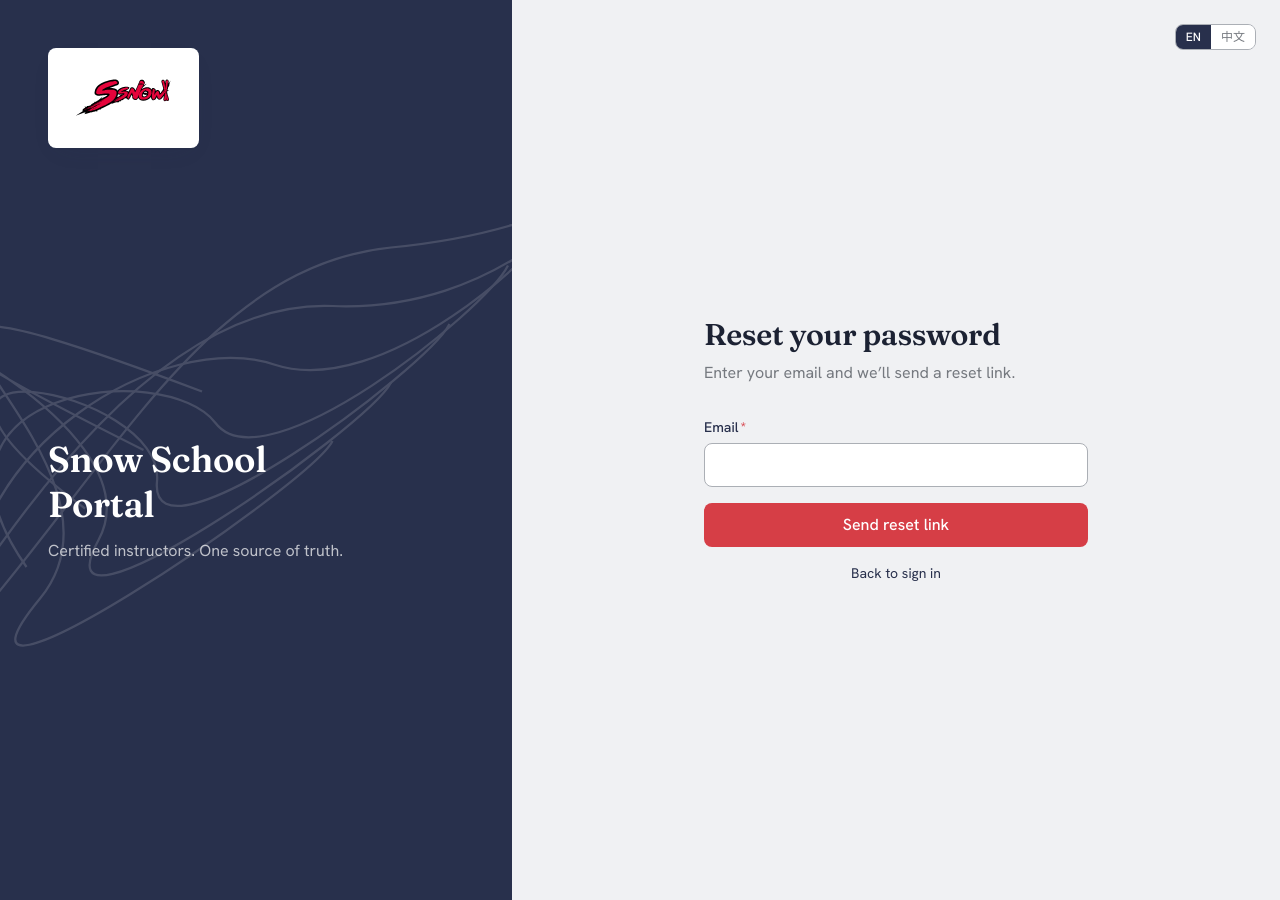
Test: RequestResetPage › asks the user to wait without a countdown when Supabase gives no wait
This screenshot has width=1280, height=900.
Step 1. Type "jane@example.com" into the field labelled "Email*" → point(896, 465), box [704, 443, 1088, 487]
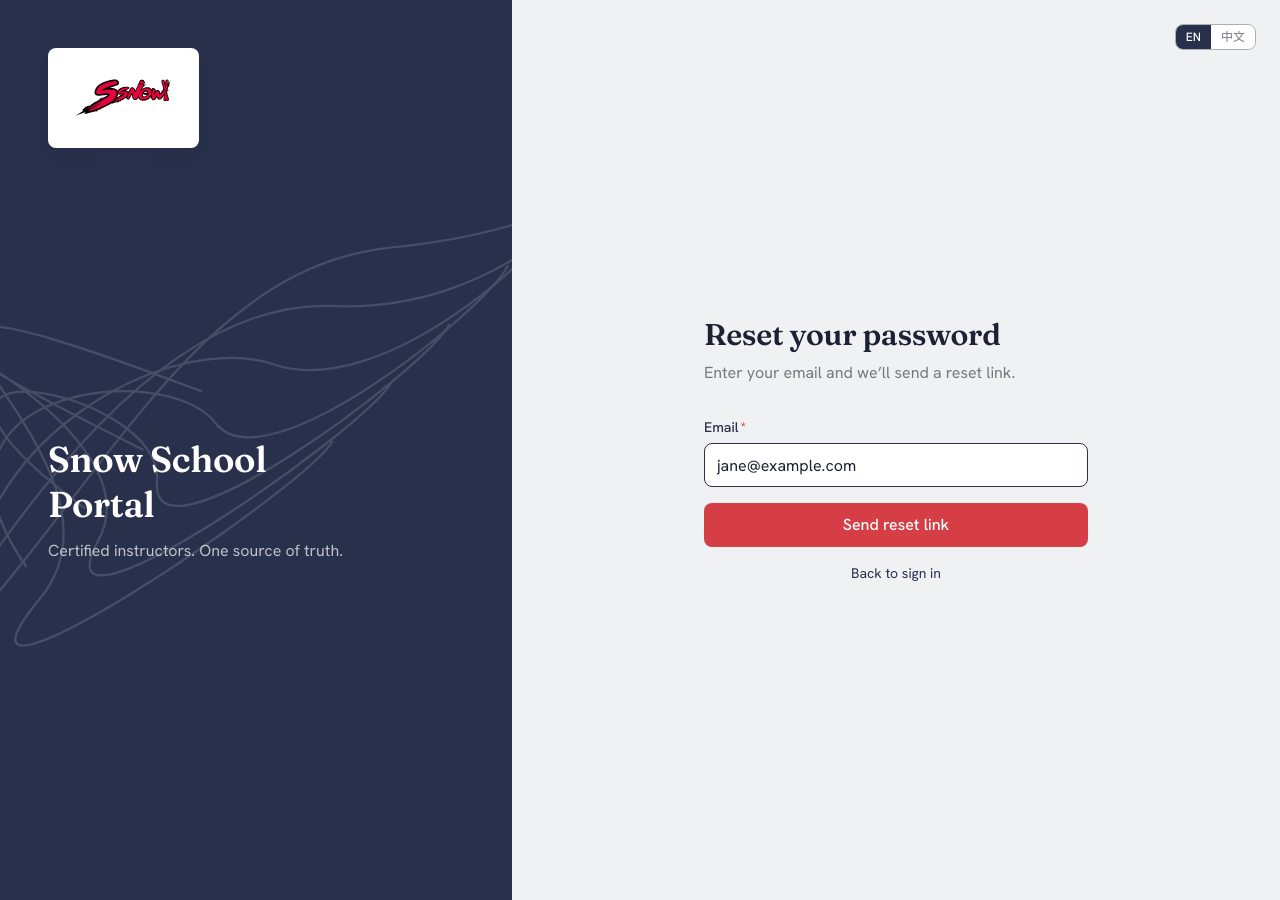
Step 2. Click the button named "Send reset link" → point(896, 525), box [704, 503, 1088, 547]
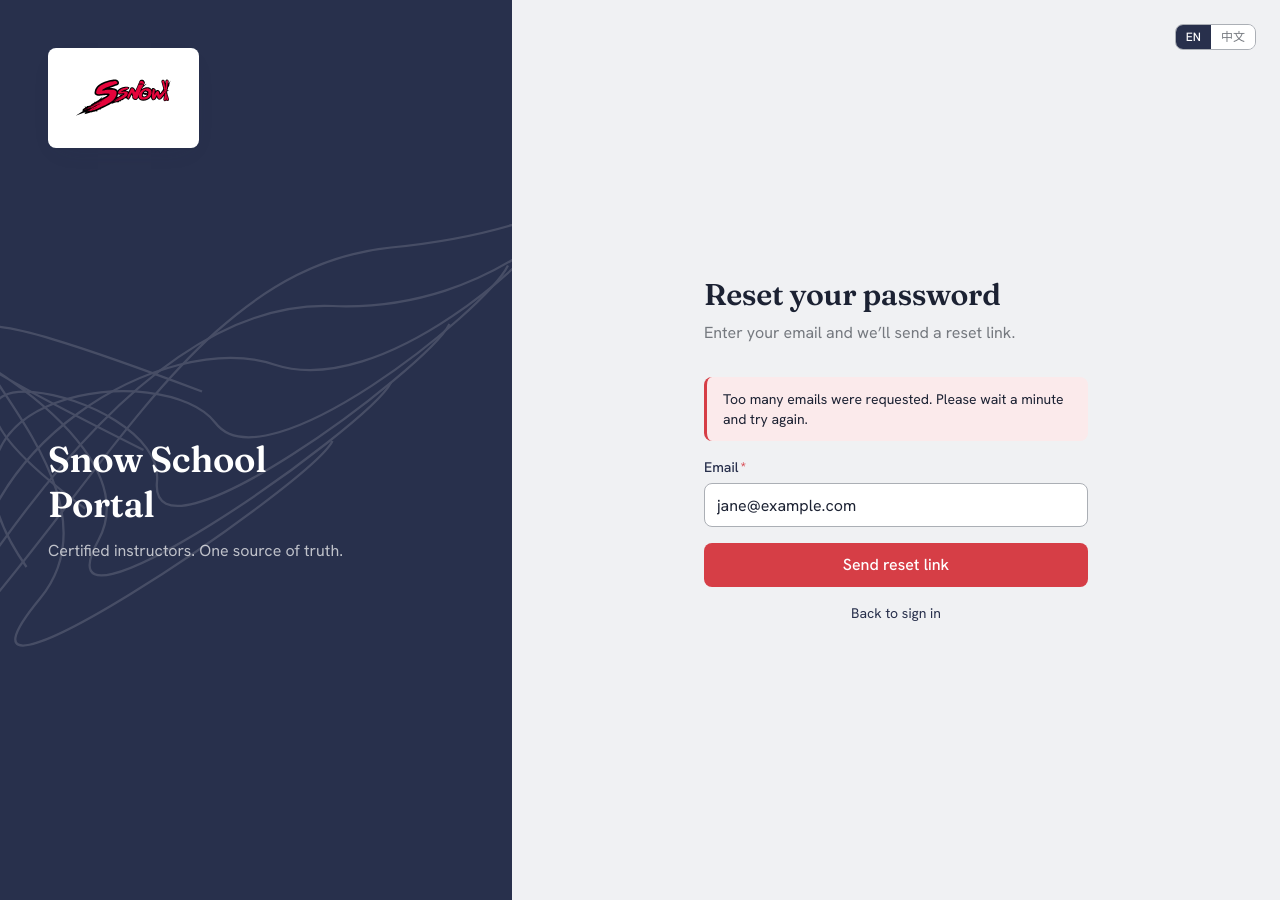
Expected: the button named "Send reset link" is enabled, [704, 543, 1088, 587]
Expected: the text "Too many emails were requested. Please wait a minute and try again." is shown, [723, 389, 1072, 429]
